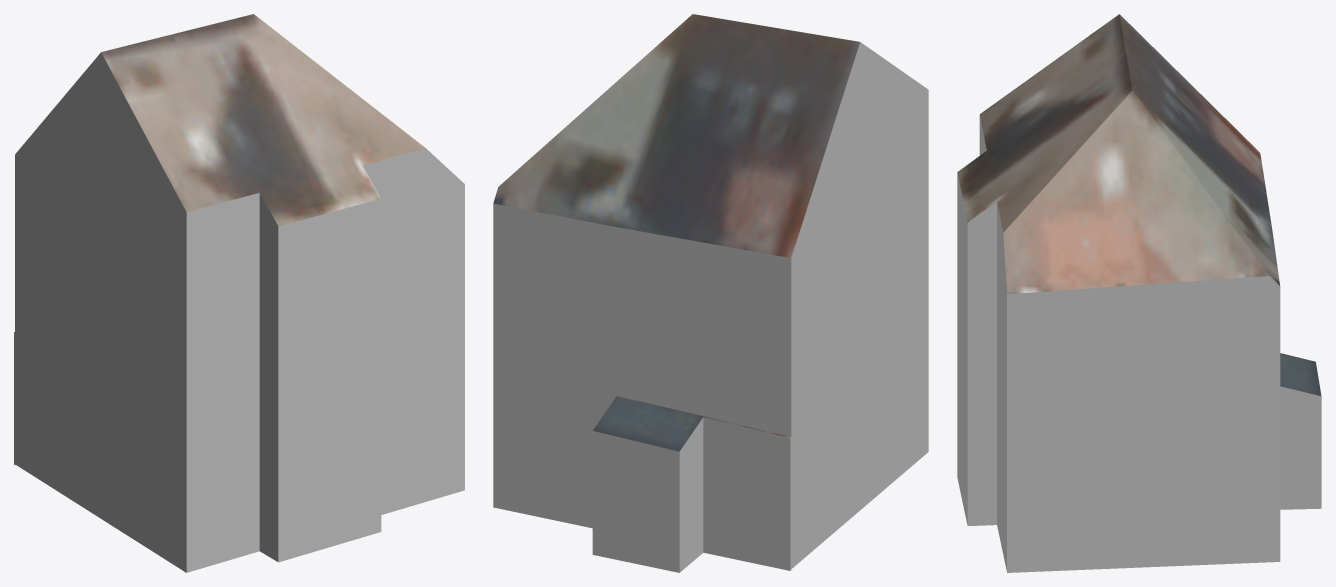
Rendered from DEBW_0010007Tx8G.gltf.
3 views of the same model, side by side, from view 1: azimuth 30°, elevation 25°; view 2: azimuth 150°, elevation 25°; view 3: azimuth 270°, elevation 25° (orthographic). The views are drawn at different scales.
Visible parts, largest first — view 1: Z_UP; view 2: Z_UP; view 3: Z_UP.
Part boxes in pixels (bbox=[...]): Z_UP: bbox=[14, 14, 464, 572]; Z_UP: bbox=[493, 14, 928, 572]; Z_UP: bbox=[957, 14, 1321, 572].
Bounding box in the file's own units: 13.22 × 19 × 14.73.
Materials: 2 (1 with a texture image).
